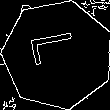L_E: (29, 35, 86, 74)
